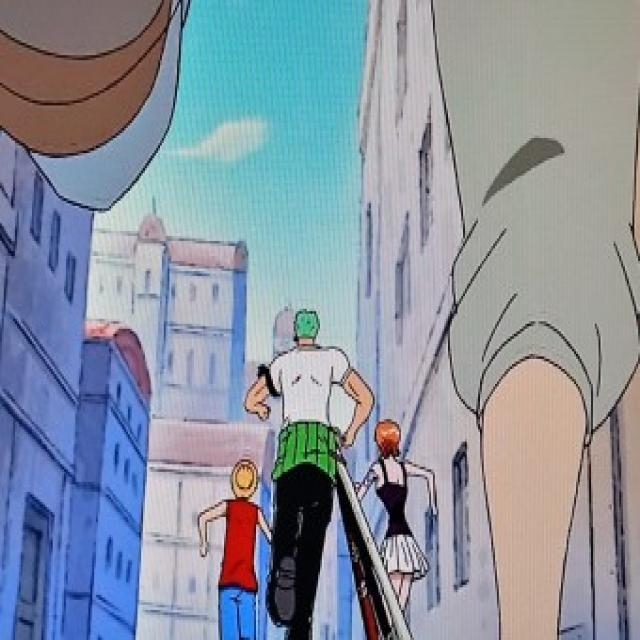Luffy: (215, 448, 273, 512)
Nami: (368, 412, 409, 469)
Zoro: (275, 295, 339, 364)
